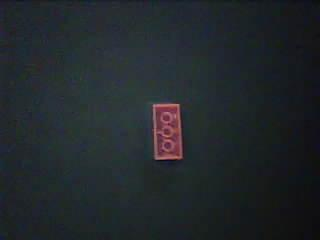lego: (152, 103, 183, 161)
